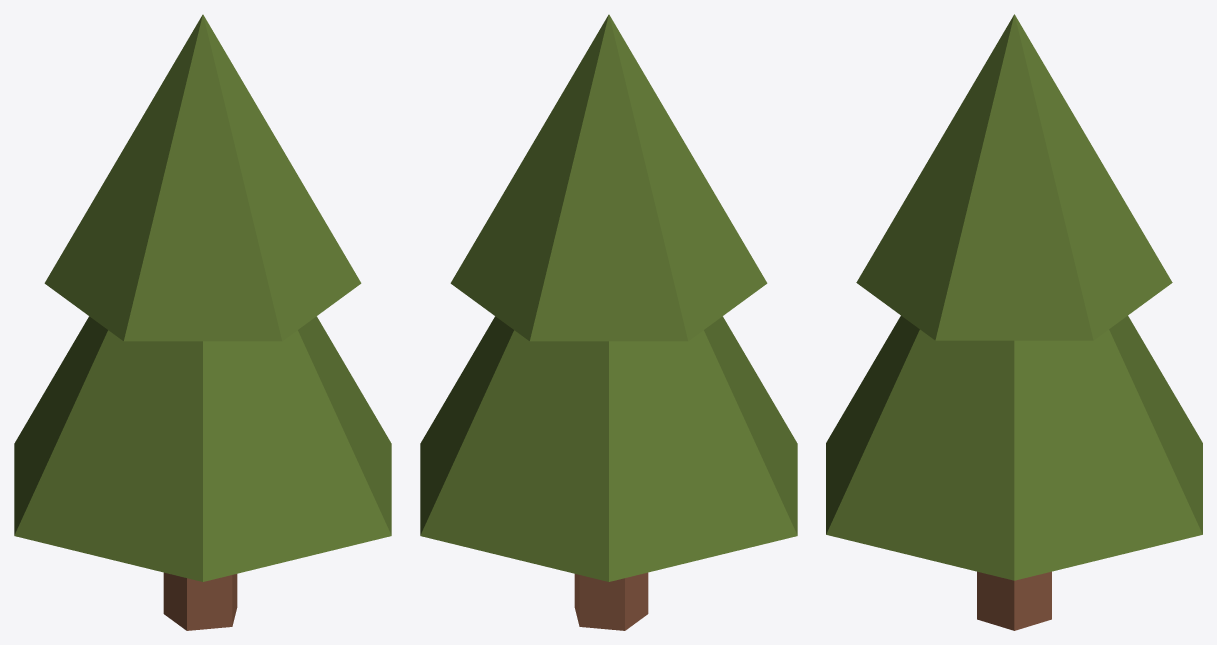
File: pine.glb
The picture shows the model from 3 angles, left to right: view 1: azimuth 30°, elevation 25°; view 2: azimuth 150°, elevation 25°; view 3: azimuth 270°, elevation 25°; orthographic projection.
Parts seen in each view (by area): view 1: Low, Top, Trunk; view 2: Low, Top, Trunk; view 3: Low, Top, Trunk.
Part boxes in pixels (x1,y1,x2,y2): Low: (14,316,391,581); Top: (44,14,361,341); Trunk: (163,572,237,630); Low: (420,316,797,581); Top: (450,14,767,341); Trunk: (574,572,648,630); Low: (826,316,1202,580); Top: (856,14,1172,340); Trunk: (977,571,1051,630).
Size of the model in its own units: 1.1 by 1.68 by 0.9526.
